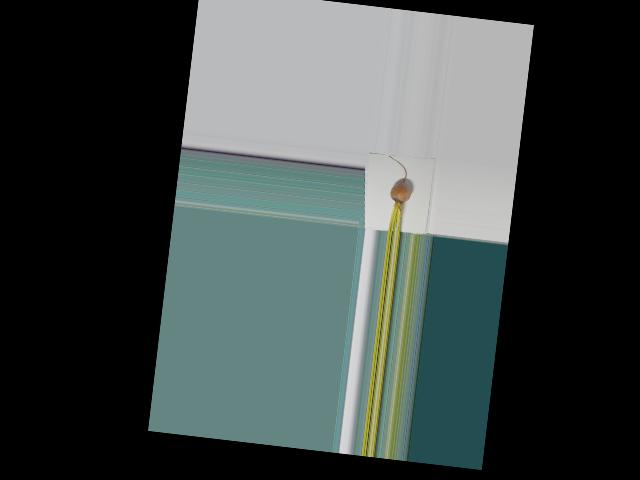beet: (380, 155, 415, 233)
